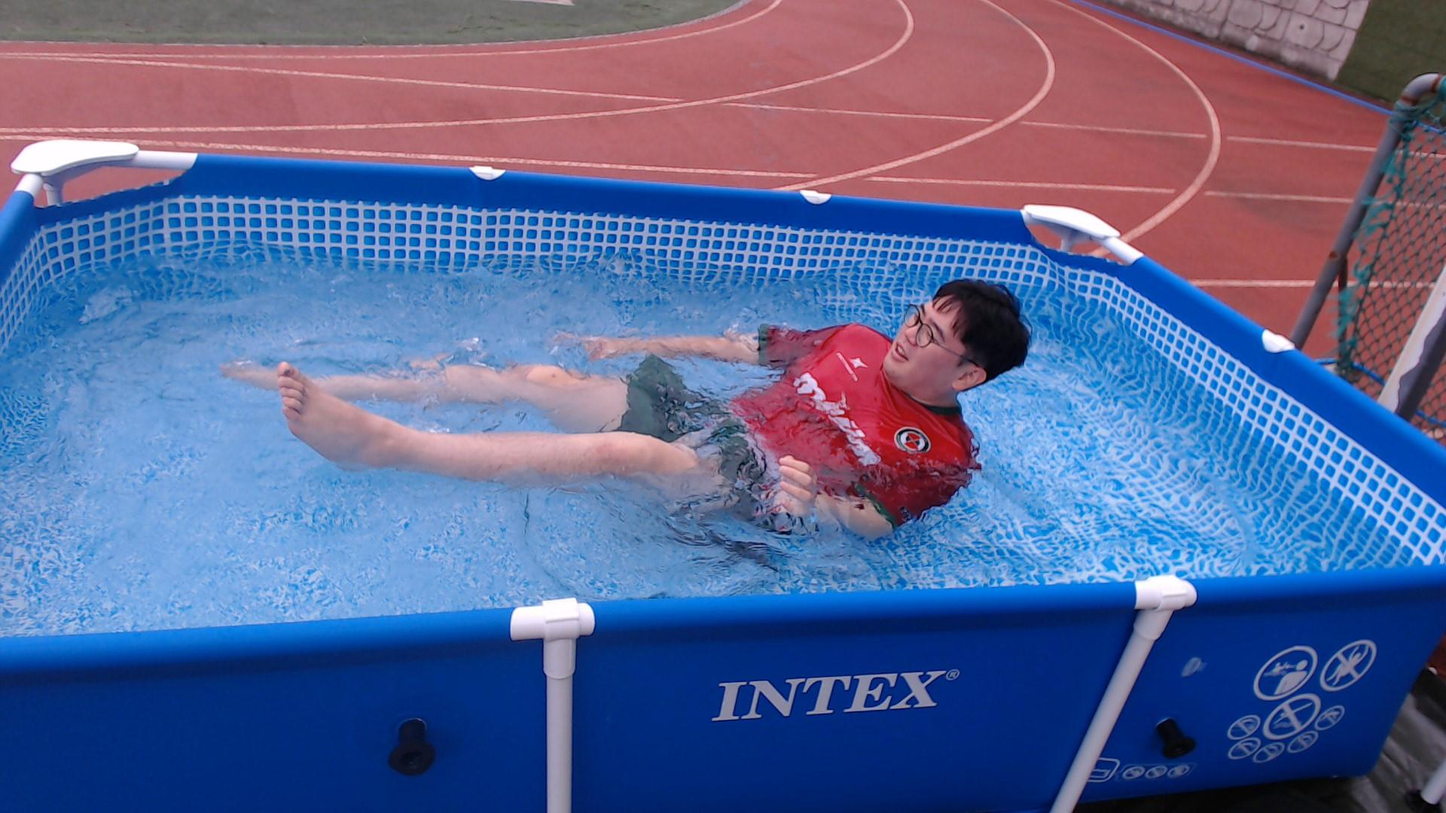Swimming: (217, 204, 1080, 567)
